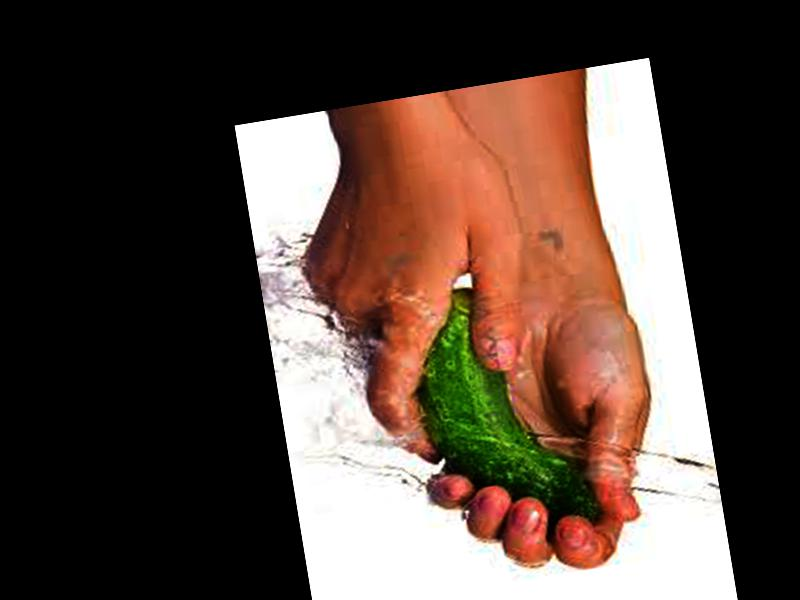Cucumber: (399, 270, 601, 547)
